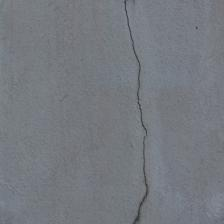Crack: (118, 4, 158, 222)
